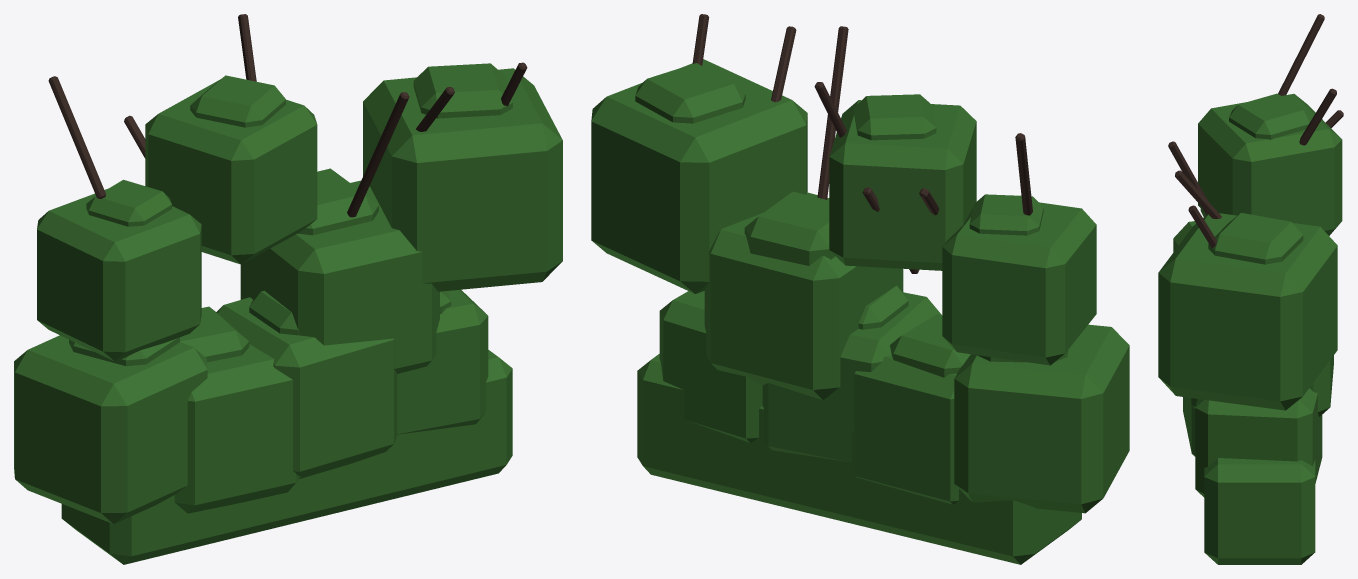
File: Hedge1.fbx
3 renders of one model, left to right at view 1: azimuth 30°, elevation 25°; view 2: azimuth 150°, elevation 25°; view 3: azimuth 270°, elevation 25°, orthographic. The views are drawn at different scales.
Parts seen in each view (by area): view 1: Hedge, Twig; view 2: Hedge, Twig; view 3: Hedge, Twig.
Boxes of the visible parts, bbox=[...] form: Hedge: bbox=[14, 63, 562, 564]; Twig: bbox=[48, 14, 527, 217]; Hedge: bbox=[591, 59, 1129, 564]; Twig: bbox=[692, 14, 1032, 273]; Hedge: bbox=[1158, 93, 1342, 564]; Twig: bbox=[1168, 14, 1343, 247].
Bounding box in the file's own units: 14.93 × 12.58 × 5.33.
